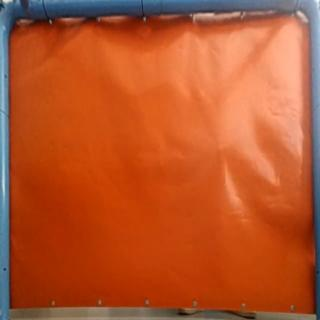Hit-hRxx: (210, 141, 228, 157)
